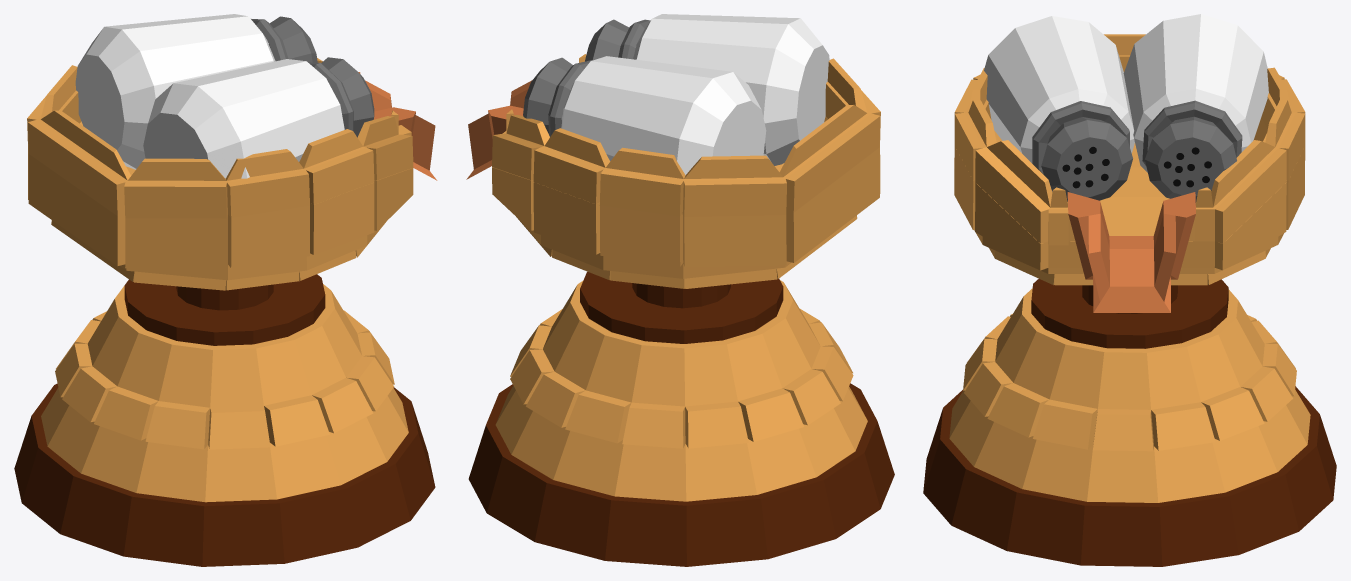
File: TuzlukSv2Model.fbx
3 renders of one model, left to right at view 1: azimuth 30°, elevation 25°; view 2: azimuth 150°, elevation 25°; view 3: azimuth 270°, elevation 25°, orthographic.
Parts seen in each view (by area): view 1: parentlı?tuz?doker.003, tuzdoker ust.002; view 2: parentlı?tuz?doker.003, tuzdoker ust.002; view 3: parentlı?tuz?doker.003, tuzdoker ust.002.
Boxes of the visible parts, x1=… form: parentlı?tuz?doker.003: x1=14, y1=274, x2=435, y2=566; tuzdoker ust.002: x1=27, y1=14, x2=437, y2=290; parentlı?tuz?doker.003: x1=468, y1=271, x2=894, y2=566; tuzdoker ust.002: x1=466, y1=14, x2=880, y2=288; parentlı?tuz?doker.003: x1=923, y1=279, x2=1336, y2=566; tuzdoker ust.002: x1=954, y1=14, x2=1305, y2=312.
Bounding box in the file's own units: 252 × 281 × 243.
3 materials, 3 textured.
